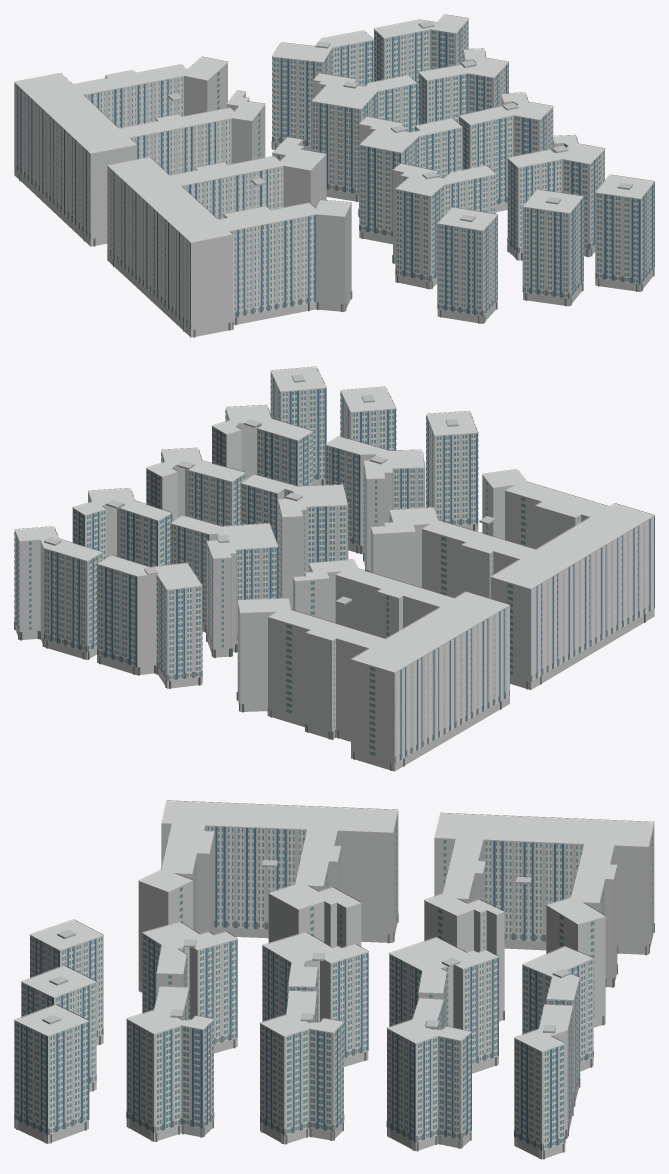
Rendered from representative-a15728011.glb.
3 views of the same model, one above another, from view 1: azimuth 30°, elevation 25°; view 2: azimuth 150°, elevation 25°; view 3: azimuth 270°, elevation 25° (orthographic). The views are drawn at different scales.
Parts seen in each view (by area): view 1: A15728011_wall001, A15728011_trim001, A15728011_glass001, A15728011_accent001, A15728011_base001, A15728011_roof001; view 2: A15728011_wall001, A15728011_trim001, A15728011_glass001, A15728011_accent001, A15728011_base001, A15728011_roof001; view 3: A15728011_wall001, A15728011_trim001, A15728011_glass001, A15728011_accent001, A15728011_base001, A15728011_roof001.
Boxes of the visible parts, x1,y1,x2,y2 form: A15728011_wall001: (14,15,654,337); A15728011_trim001: (14,14,654,328); A15728011_glass001: (15,21,654,318); A15728011_accent001: (17,27,654,329); A15728011_base001: (14,137,654,337); A15728011_roof001: (168,21,632,222); A15728011_wall001: (15,367,654,771); A15728011_trim001: (14,366,654,762); A15728011_glass001: (14,370,651,757); A15728011_accent001: (16,377,654,759); A15728011_base001: (14,474,649,770); A15728011_roof001: (44,374,495,605); A15728011_wall001: (14,801,654,1159); A15728011_trim001: (14,800,654,1150); A15728011_glass001: (15,821,652,1148); A15728011_accent001: (21,826,582,1147); A15728011_base001: (14,912,654,1159); A15728011_roof001: (42,860,571,1033).
Bounding box in the file's own units: 238 × 49.8 × 259.
